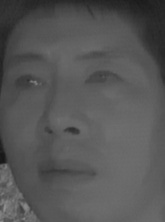eye: (83, 66, 125, 90), (13, 70, 47, 94)
mouth: (33, 151, 102, 192)
